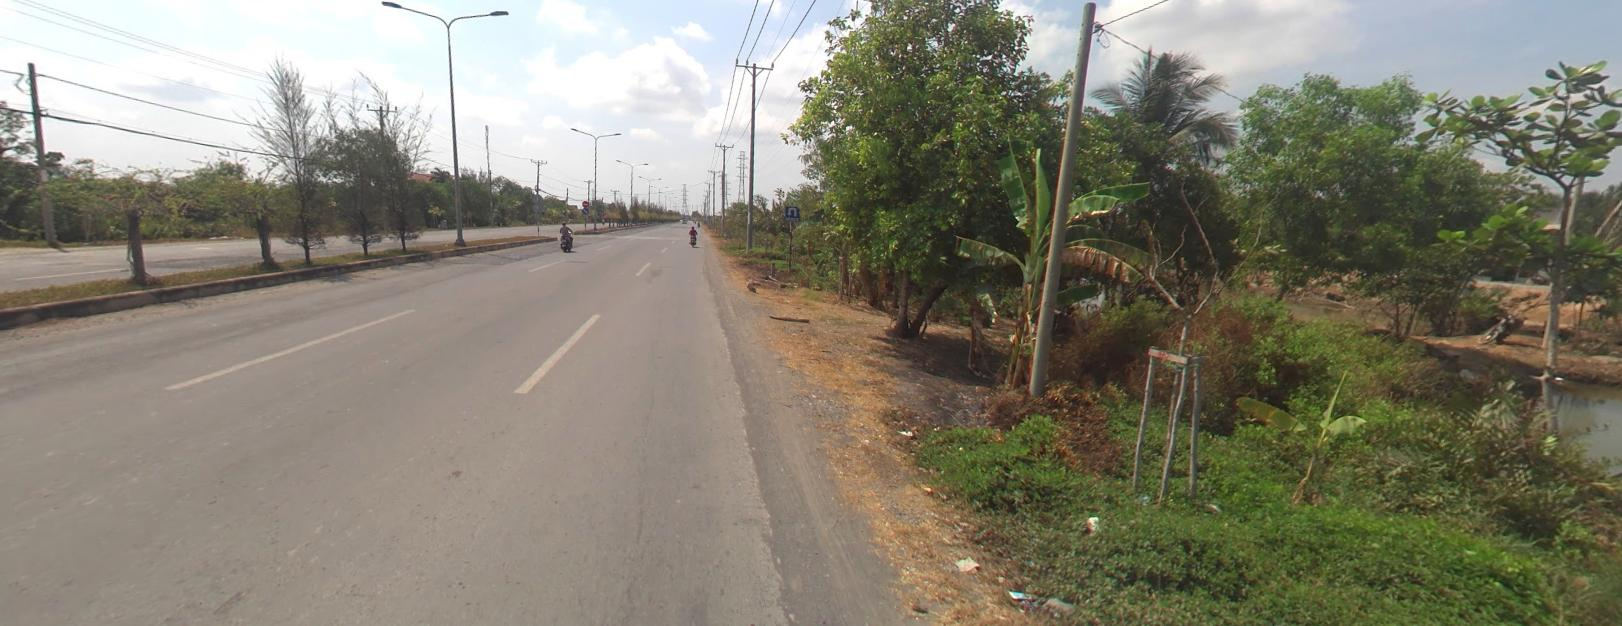Cam nguoc chieu: (582, 199, 588, 206)
Hieu lenh: (582, 206, 588, 212)
